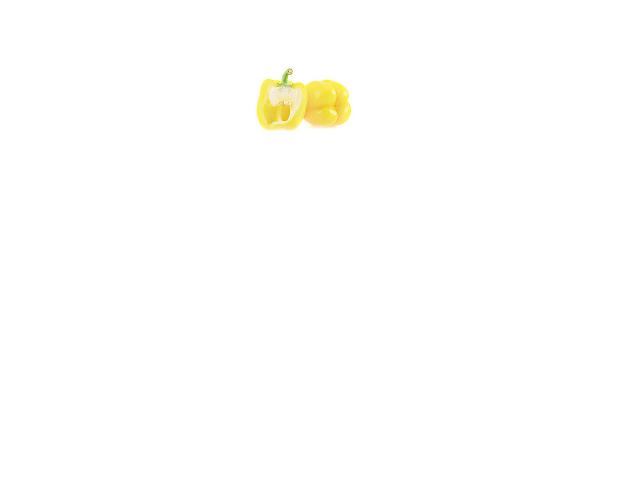bell_pepper: (253, 67, 316, 142)
